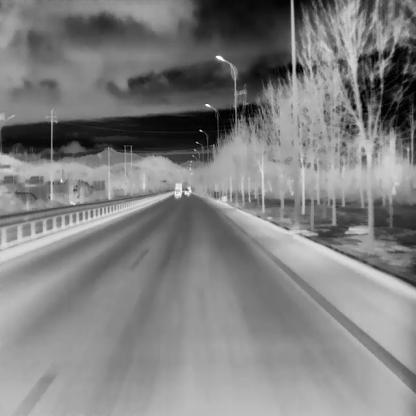car: (175, 182, 181, 194), (174, 188, 181, 198), (184, 187, 189, 194)
